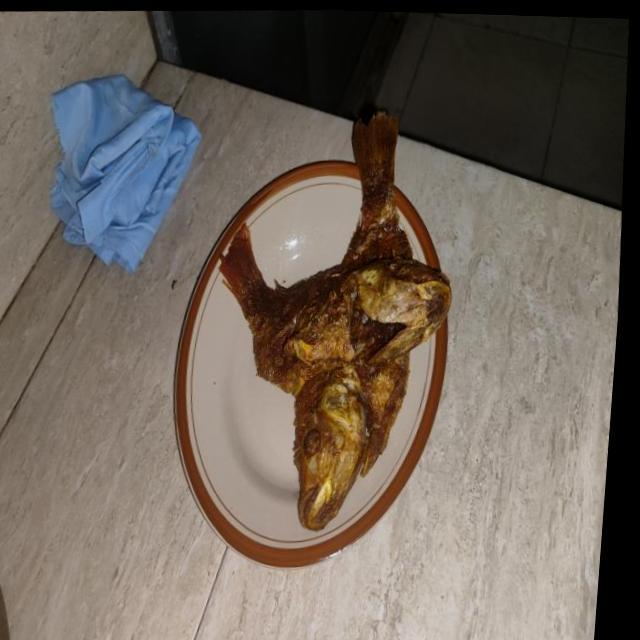ikan_mujair: (295, 111, 412, 529), (219, 223, 450, 396)
